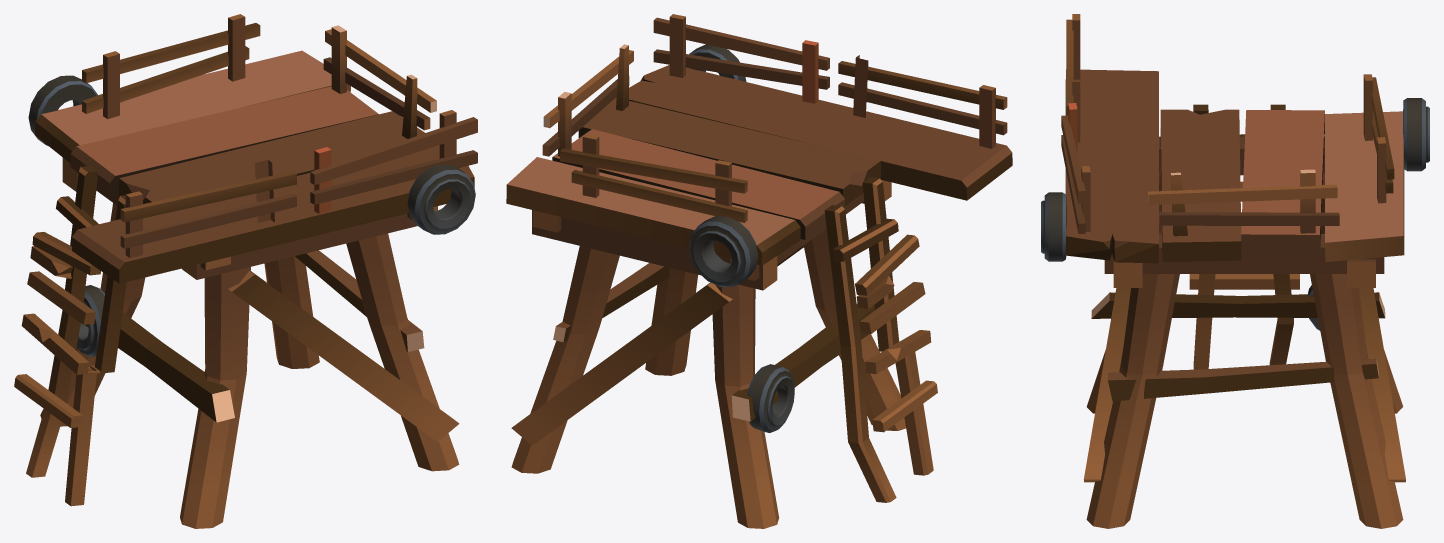
File: Tower.fbx
The picture shows the model from 3 angles, left to right: view 1: azimuth 30°, elevation 25°; view 2: azimuth 150°, elevation 25°; view 3: azimuth 270°, elevation 25°; orthographic projection. The views are drawn at different scales.
Parts seen in each view (by area): view 1: Tower; view 2: Tower; view 3: Tower.
Boxes of the visible parts, x1,y1,x2,y2 form: Tower: (14,14,477,528); Tower: (506,14,1012,528); Tower: (1041,14,1429,528).
Size of the model in its own units: 572 by 532 by 535.
